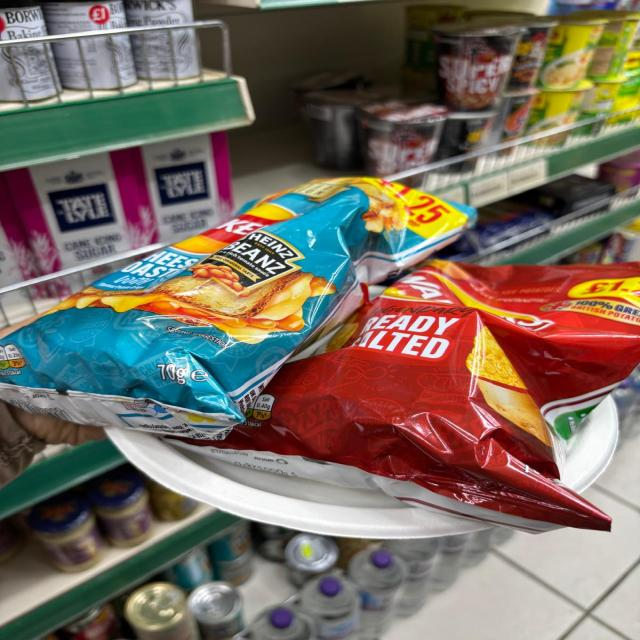crisp: (0, 168, 448, 426), (280, 242, 640, 528)
